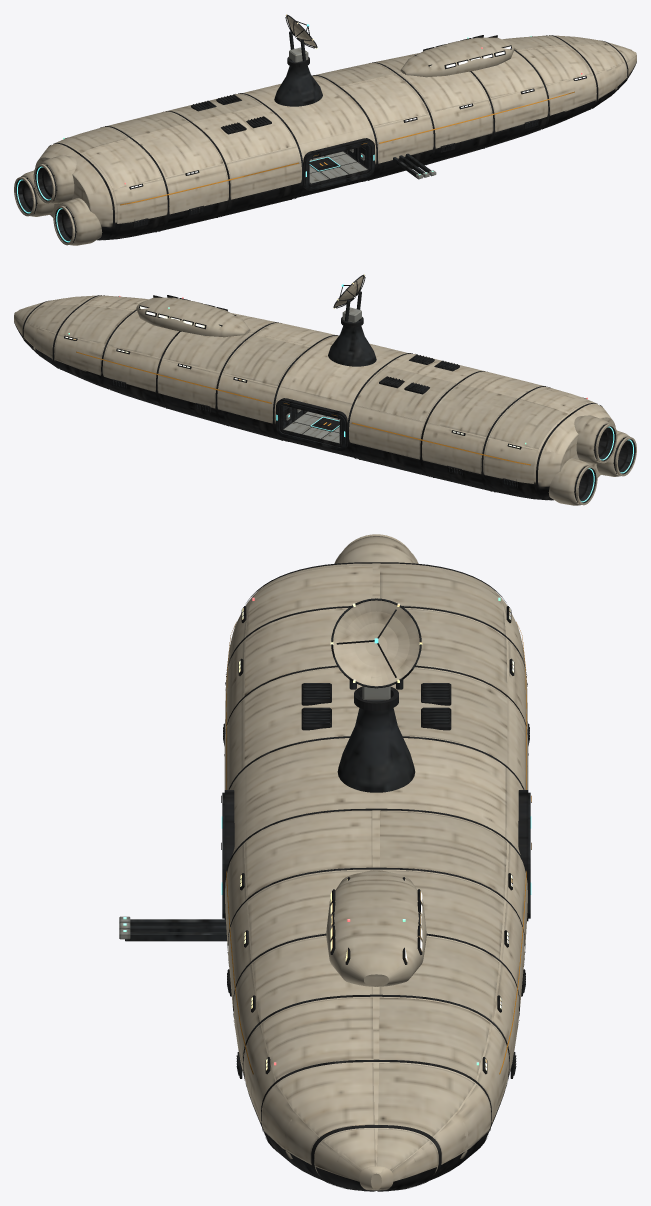
File: cargo_carrier.glb
The picture shows the model from 3 angles, top to bottom: view 1: azimuth 30°, elevation 25°; view 2: azimuth 150°, elevation 25°; view 3: azimuth 270°, elevation 25°; orthographic projection. The views are drawn at different scales.
Parts seen in each view (by area): view 1: hull, interior, dish_yaw, dish_pitch, emissive; view 2: hull, interior, dish_yaw, dish_pitch, emissive; view 3: hull, dish_pitch, dish_yaw.
Boxes of the visible parts, bbox=[...] form: hull: bbox=[14, 35, 636, 245]; interior: bbox=[309, 145, 369, 185]; dish_yaw: bbox=[287, 31, 309, 67]; dish_pitch: bbox=[285, 14, 317, 48]; emissive: bbox=[17, 36, 582, 242]; hull: bbox=[14, 295, 636, 505]; interior: bbox=[281, 405, 341, 445]; dish_yaw: bbox=[341, 291, 363, 327]; dish_pitch: bbox=[333, 274, 365, 308]; emissive: bbox=[68, 296, 633, 502]; hull: bbox=[119, 534, 531, 1191]; dish_pitch: bbox=[330, 598, 422, 688]; dish_yaw: bbox=[349, 680, 403, 710].
Size of the model in its own units: 8150 by 2171 by 2458.
4 materials, 4 textured.
